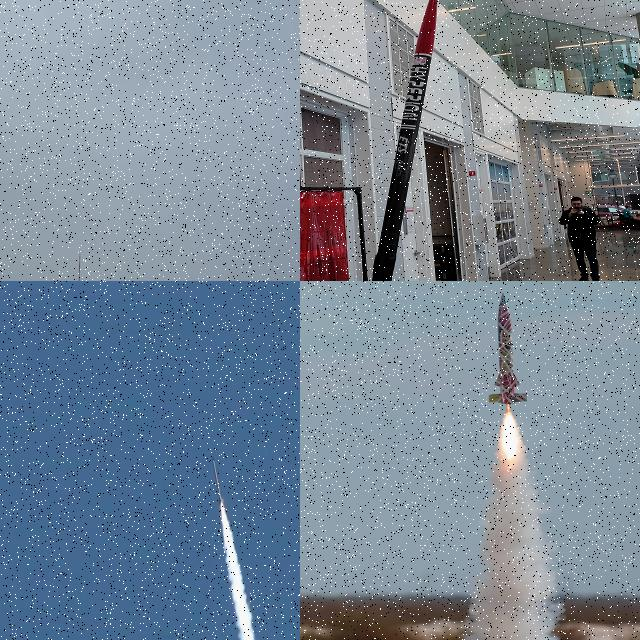Rocket: (373, 0, 437, 281), (488, 292, 528, 405), (212, 456, 225, 505), (78, 250, 80, 281)
